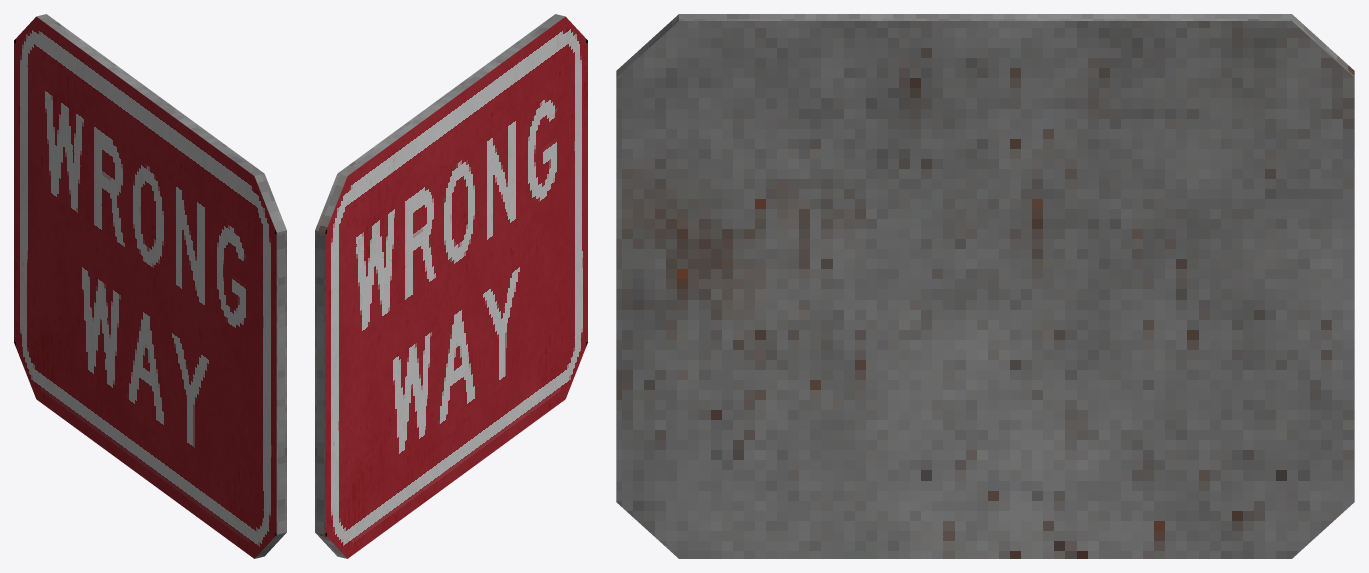
File: Sign_WrongWay_Plate.glb
The picture shows the model from 3 angles, left to right: view 1: azimuth 30°, elevation 25°; view 2: azimuth 150°, elevation 25°; view 3: azimuth 270°, elevation 25°; orthographic projection. The views are drawn at different scales.
Parts seen in each view (by area): view 1: Sign_WrongWay_Plate; view 2: Sign_WrongWay_Plate; view 3: Sign_WrongWay_Plate.
Part boxes in pixels (x1,y1,x2,y2): Sign_WrongWay_Plate: (14,14,286,558); Sign_WrongWay_Plate: (315,14,587,558); Sign_WrongWay_Plate: (616,14,1354,558).
Bounding box in the file's own units: 0.0152 × 0.5425 × 0.6746.
1 material, 1 textured.
